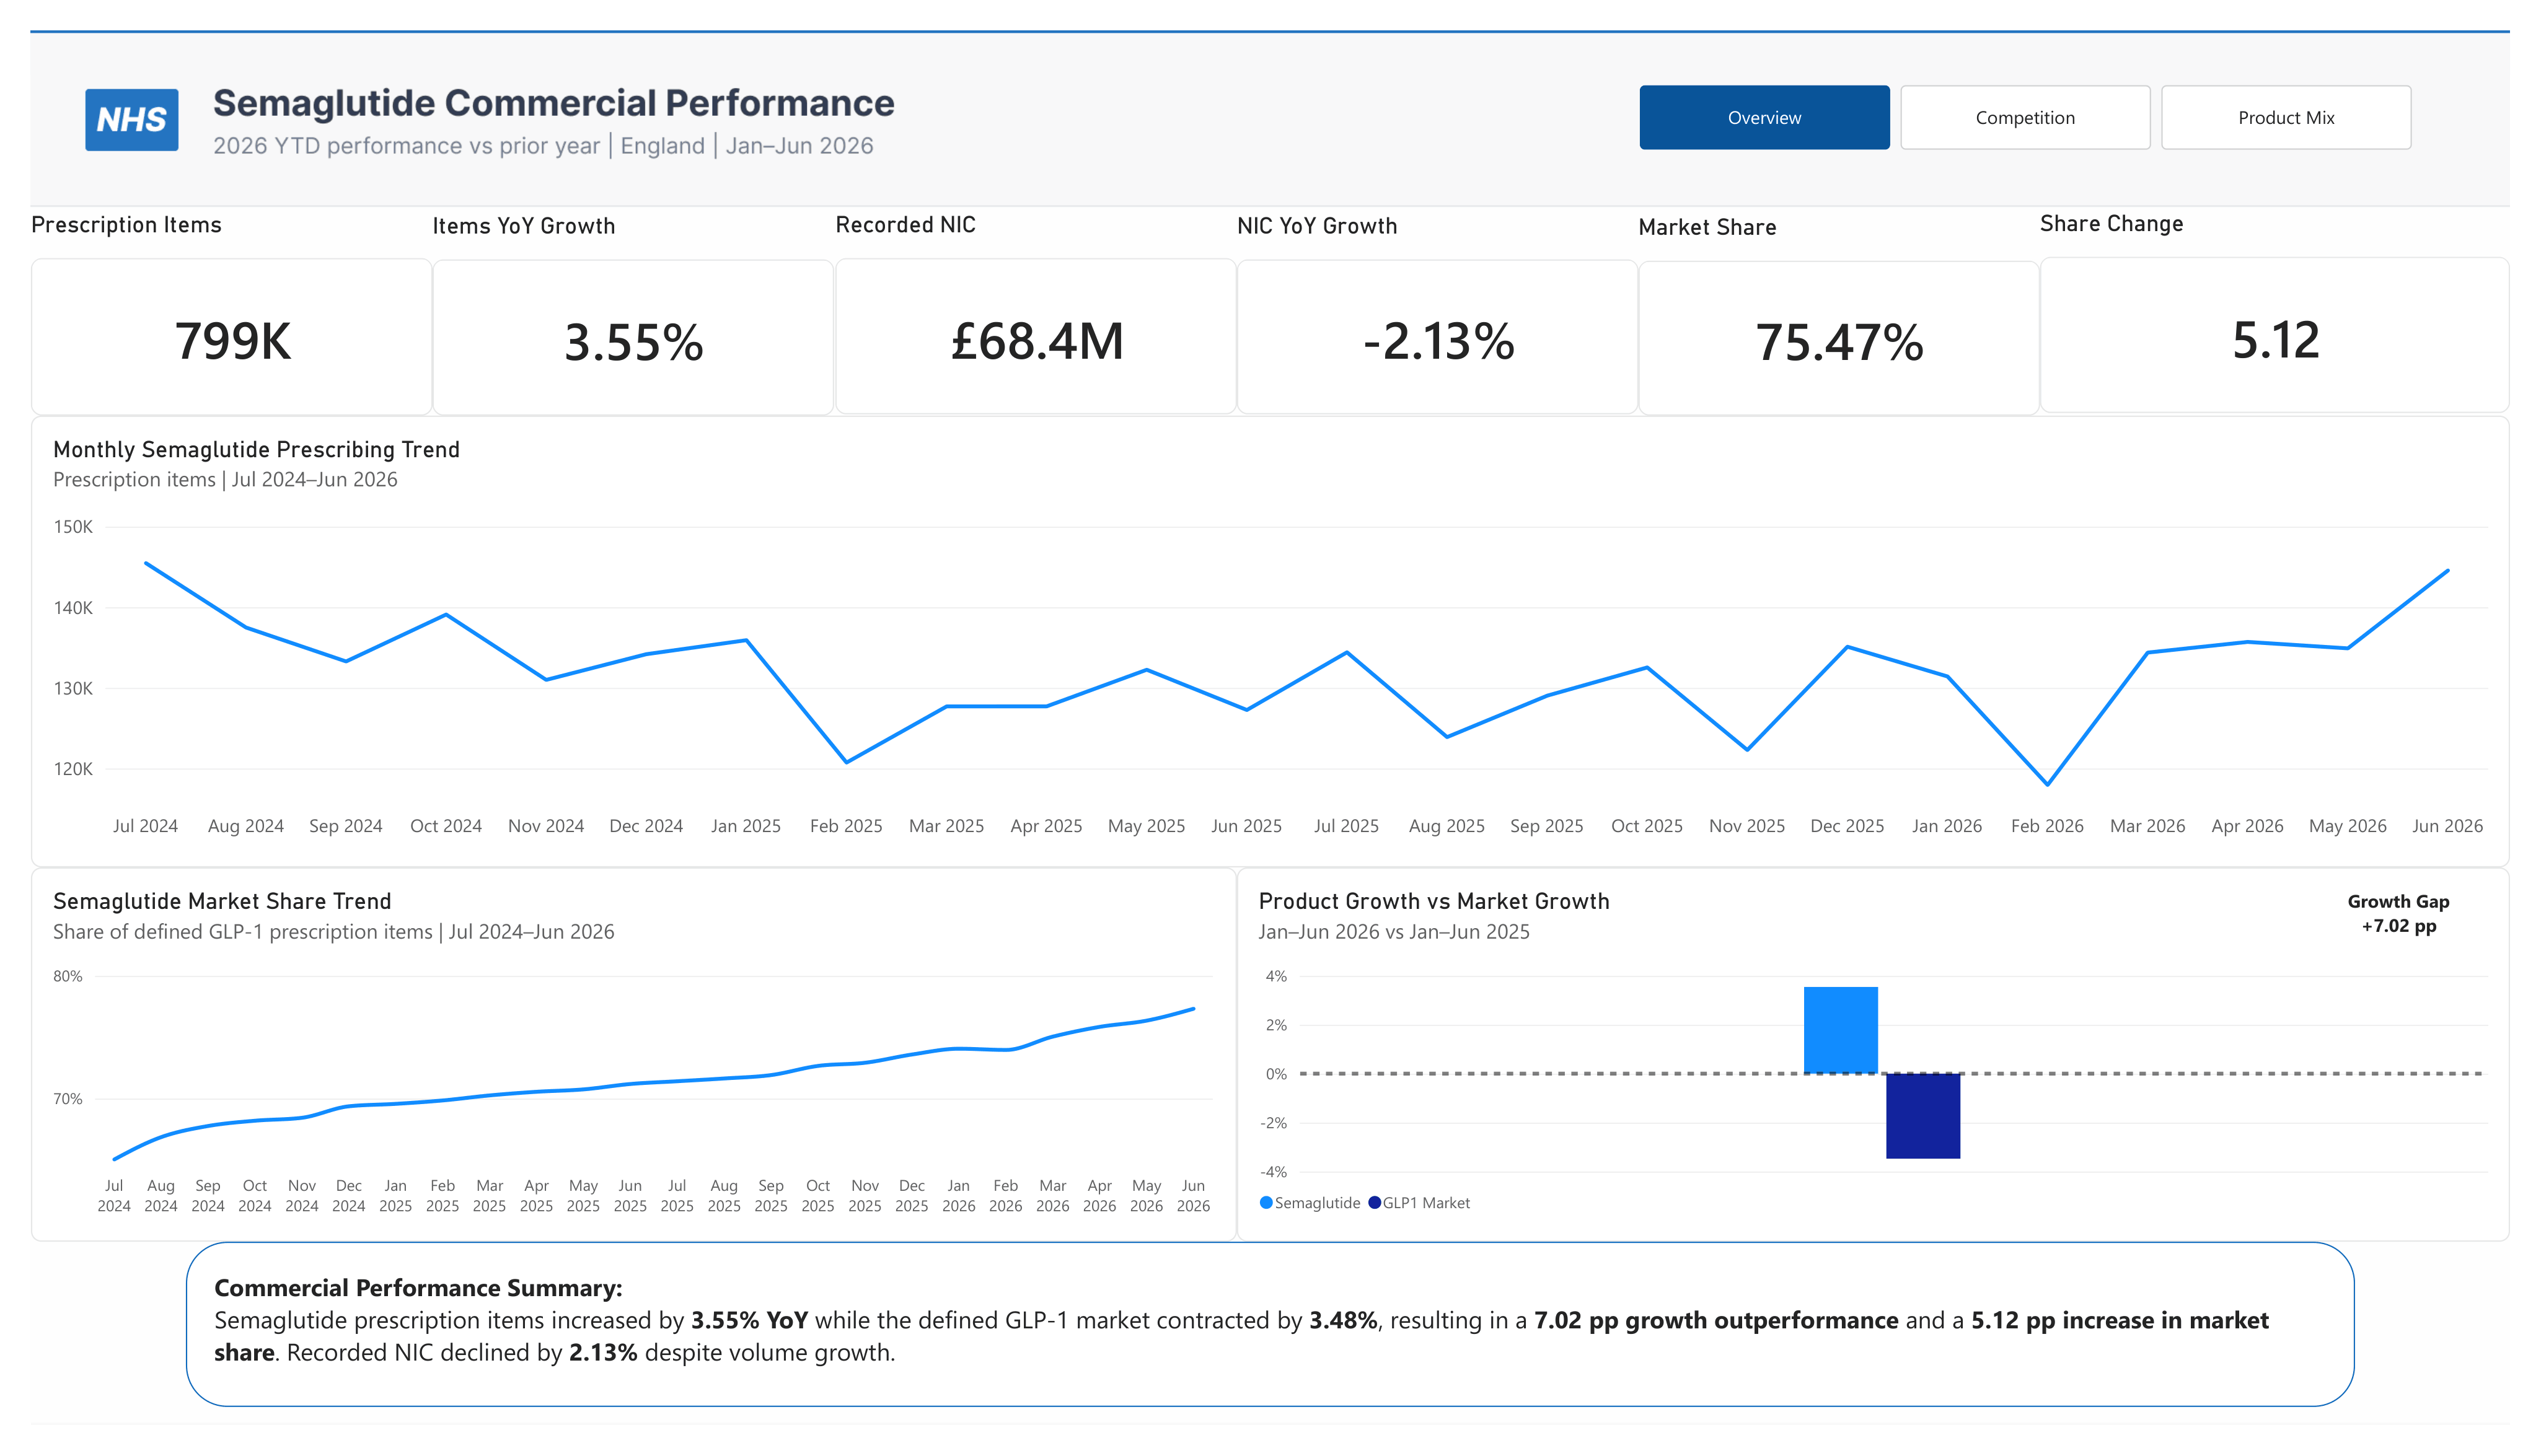

Layout of this report page (visuals, bound fields, positions):
{"tool":"powerbi","page":{"name":"Overview","canvas":[1920,1080],"ordinal":0},"visuals":[{"type":"cardVisual","title":"Prescription Items","fields":{"Data":["Measure_Table.Semaglutide Items"]},"box":[0,139,311.3,159],"z":0},{"type":"shape","box":[120,938,1680,128],"z":0,"group":"g1"},{"type":"cardVisual","title":"Items YoY Growth","fields":{"Data":["Measure_Table.Semaglutide YoY Growth"]},"box":[311.3,140.1,311.3,157.9],"z":1000},{"type":"textbox","box":[142,960,1592,86],"z":1000,"group":"g1"},{"type":"cardVisual","title":"Recorded NIC","fields":{"Data":["Measure_Table.Semaglutide NIC"]},"box":[622.7,139,311.3,157.9],"z":2000},{"type":"cardVisual","title":"NIC YoY Growth","fields":{"Data":["Measure_Table.Semaglutide NIC YoY Growth"]},"box":[934,140.1,311.3,156.9],"z":3000},{"type":"cardVisual","title":"Market Share","fields":{"Data":["Measure_Table.Semaglutide Market Share"]},"box":[1245.3,141.1,311.3,156.9],"z":4000},{"type":"cardVisual","title":"Share Change","fields":{"Data":["Measure_Table.Share Change (pp)"]},"box":[1556,138,364,158],"z":5000},{"type":"lineChart","title":"Monthly Semaglutide Prescribing Trend","fields":{"Category":["Dim_Calendar.MonthYear"],"Y":["Measure_Table.Semaglutide Items"]},"box":[0,298,1920,350],"z":6000},{"type":"lineChart","title":"Semaglutide Market Share Trend","fields":{"Category":["Dim_Calendar.MonthYear"],"Y":["Measure_Table.Semaglutide Market Share"]},"box":[0,648,934,290],"z":7000},{"type":"clusteredColumnChart","title":"Product Growth vs Market Growth","fields":{"Y":["Measure_Table.Semaglutide YoY Growth","Measure_Table.GLP1 Market YoY Growth"]},"box":[934,648,986,290],"z":8000},{"type":"textbox","box":[1774,664,120,40],"z":9000},{"type":"group","id":"g1","title":"Group 1","box":[120,938,1680,128],"z":10000},{"type":"pageNavigator","box":[1246,42,600,50],"z":10001}]}

Visuals, with their boxes on the page's 1920x1080 design canvas (x1, y1, x2, y2). These are canvas units, not pixel positions in the 2541x1456 screenshot, which may show the page scaled, cropped or inside an application window:
"Prescription Items" cardVisual: region(0, 139, 311, 298)
shape: region(120, 938, 1800, 1066)
"Items YoY Growth" cardVisual: region(311, 140, 623, 298)
textbox: region(142, 960, 1734, 1046)
"Recorded NIC" cardVisual: region(623, 139, 934, 297)
"NIC YoY Growth" cardVisual: region(934, 140, 1245, 297)
"Market Share" cardVisual: region(1245, 141, 1557, 298)
"Share Change" cardVisual: region(1556, 138, 1920, 296)
"Monthly Semaglutide Prescribing Trend" lineChart: region(0, 298, 1920, 648)
"Semaglutide Market Share Trend" lineChart: region(0, 648, 934, 938)
"Product Growth vs Market Growth" clusteredColumnChart: region(934, 648, 1920, 938)
textbox: region(1774, 664, 1894, 704)
"Group 1" group: region(120, 938, 1800, 1066)
pageNavigator: region(1246, 42, 1846, 92)
